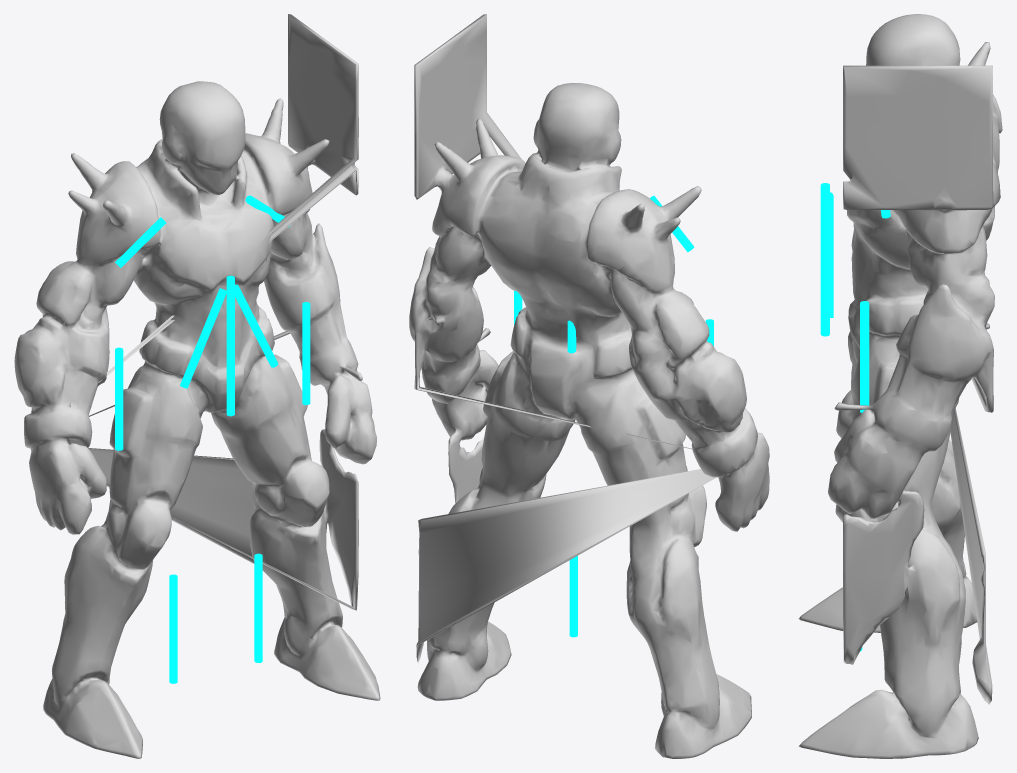
Rendered from Enforcer_Fists.fbx.
3 renders of one model, left to right at view 1: azimuth 30°, elevation 25°; view 2: azimuth 150°, elevation 25°; view 3: azimuth 270°, elevation 25°, orthographic. The views are drawn at different scales.
Visible parts, largest first — view 1: Enforcer_Fists; view 2: Enforcer_Fists; view 3: Enforcer_Fists.
Boxes of the visible parts, bbox=[...] form: Enforcer_Fists: bbox=[14, 14, 380, 758]; Enforcer_Fists: bbox=[409, 14, 769, 758]; Enforcer_Fists: bbox=[798, 14, 1002, 758].
Bounding box in the file's own units: 113 × 210 × 57.07.
